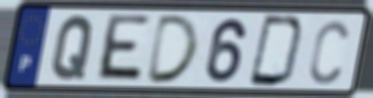6: (204, 16, 248, 85)
C: (307, 18, 351, 86)
D: (246, 13, 308, 89), (143, 13, 201, 86)
E: (92, 12, 153, 85)
Q: (49, 13, 97, 82)
